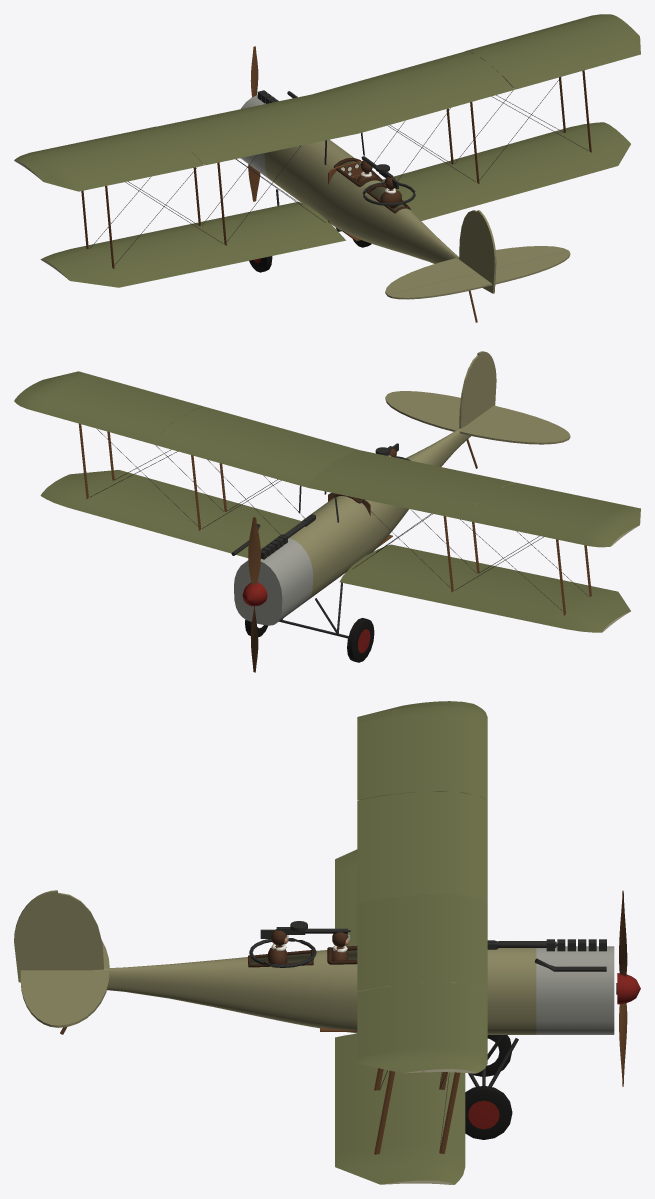
Rendered from albatros_ciii.glb.
3 renders of one model, top to bottom at view 1: azimuth 30°, elevation 25°; view 2: azimuth 150°, elevation 25°; view 3: azimuth 270°, elevation 25°, orthographic. The views are drawn at different scales.
Parts seen in each view (by area): view 1: Wing_Upper_R, Wing_Lower_L, Wing_Upper_L, Wing_Lower_R, Fuselage, Aileron_L, Aileron_R, Elevator, Struts, Stabilizer_L, Wires, Rudder (+4 smaller); view 2: Wing_Upper_R, Wing_Upper_L, Wing_Lower_L, Fuselage, Wing_Lower_R, Elevator, Struts, Stabilizer_L, PropBlades, Stabilizer_R, Wires, Aileron_R (+5 smaller); view 3: Fuselage, Wing_Upper_L, Wing_Upper_R, Wing_Lower_R, Rudder, Aileron_L, Aileron_R, Fin, Wheels, Stabilizer_R, Wing_Lower_L, Elevator (+5 smaller).
Boxes of the visible parts, bbox=[...] form: Wing_Upper_R: bbox=[312, 14, 632, 132]; Wing_Lower_L: bbox=[40, 202, 345, 287]; Wing_Upper_L: bbox=[14, 94, 359, 176]; Wing_Lower_R: bbox=[382, 122, 630, 220]; Fuselage: bbox=[240, 95, 462, 263]; Aileron_L: bbox=[35, 151, 203, 191]; Aileron_R: bbox=[502, 29, 640, 89]; Elevator: bbox=[387, 250, 570, 299]; Struts: bbox=[81, 70, 591, 268]; Stabilizer_L: bbox=[385, 258, 476, 295]; Wires: bbox=[90, 77, 588, 265]; Rudder: bbox=[477, 210, 496, 293]; Wing_Upper_R: bbox=[14, 376, 359, 487]; Wing_Upper_L: bbox=[308, 450, 632, 547]; Wing_Lower_L: bbox=[339, 544, 630, 632]; Fuselage: bbox=[234, 427, 470, 625]; Wing_Lower_R: bbox=[40, 470, 301, 557]; Elevator: bbox=[388, 391, 570, 439]; Struts: bbox=[78, 423, 591, 615]; Stabilizer_L: bbox=[459, 416, 568, 444]; PropBlades: bbox=[242, 517, 267, 672]; Stabilizer_R: bbox=[385, 394, 459, 431]; Wires: bbox=[90, 429, 588, 611]; Aileron_R: bbox=[37, 371, 203, 411]; Fuselage: bbox=[94, 946, 614, 1034]; Wing_Upper_L: bbox=[357, 701, 487, 903]; Wing_Upper_R: bbox=[357, 894, 487, 1073]; Wing_Lower_R: bbox=[335, 1033, 465, 1184]; Rudder: bbox=[14, 890, 57, 982]; Aileron_L: bbox=[357, 703, 420, 799]; Aileron_R: bbox=[357, 986, 422, 1073]; Fin: bbox=[58, 892, 103, 970]; Wheels: bbox=[465, 1035, 512, 1139]; Stabilizer_R: bbox=[58, 970, 109, 1027]; Wing_Lower_L: bbox=[335, 849, 357, 946]; Elevator: bbox=[20, 970, 57, 1027].
Size of the model in its own units: 11.69 by 3.36 by 8.42.
